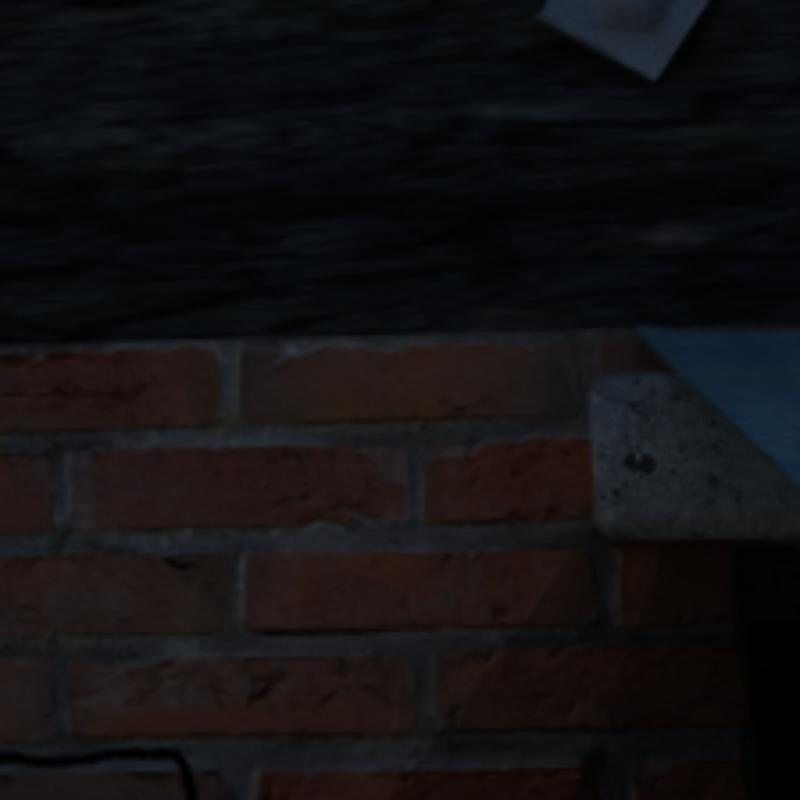pothole: (0, 750, 193, 796)
